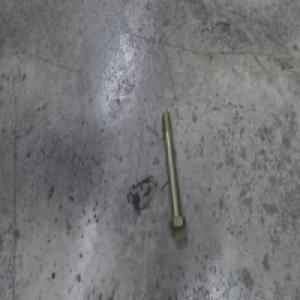Bolt: (163, 109, 189, 229)
